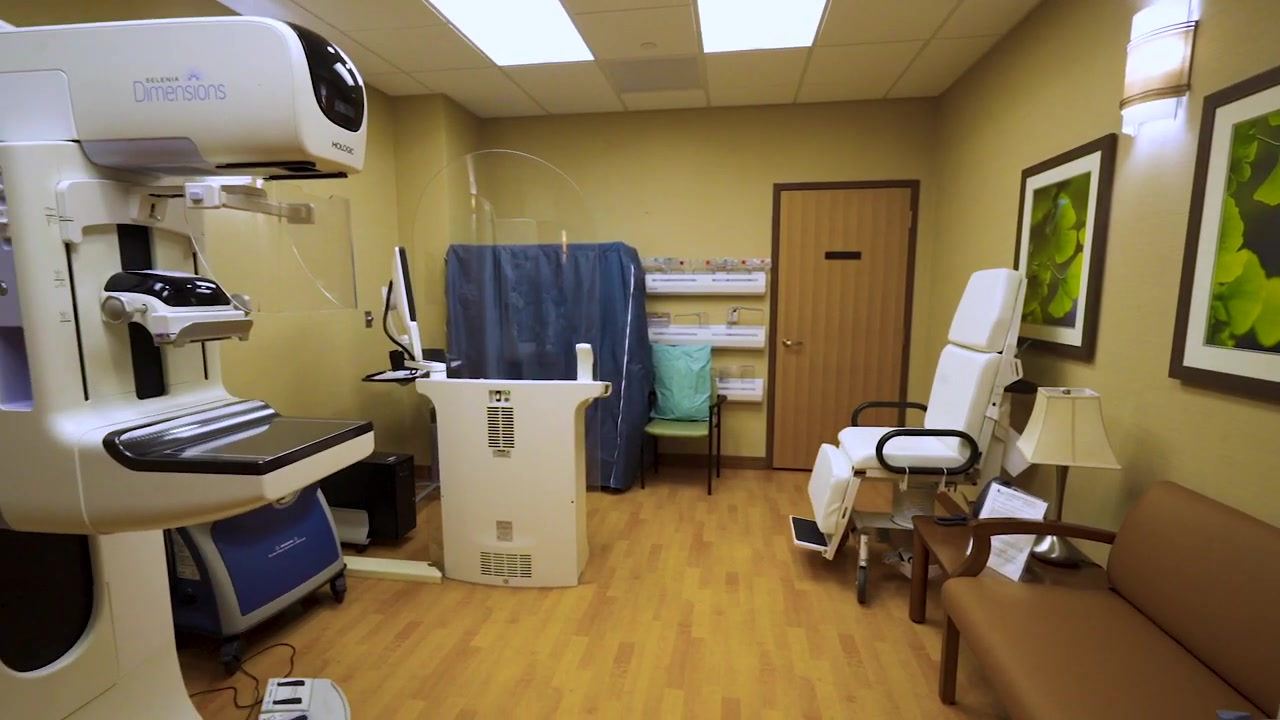chair: (637, 343, 728, 498)
door_handle: (781, 338, 805, 349)
exam_table: (786, 266, 1041, 603)
sofa: (940, 482, 1280, 720)
table: (908, 514, 1110, 627)
